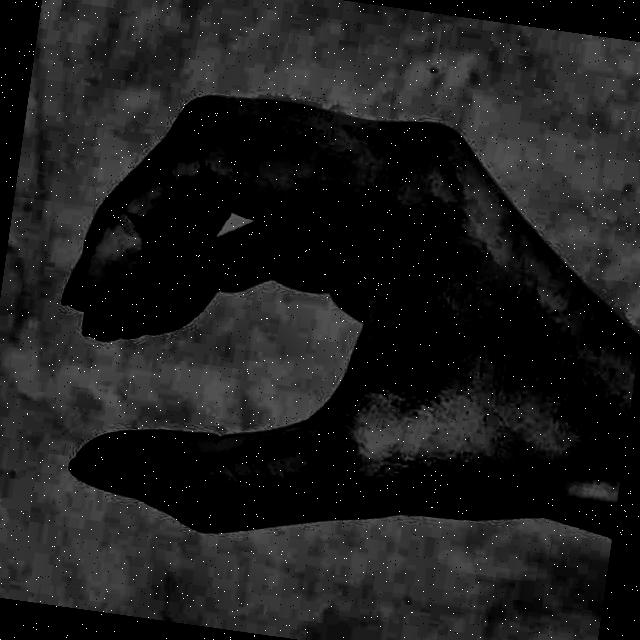Ka: (13, 19, 640, 624)
